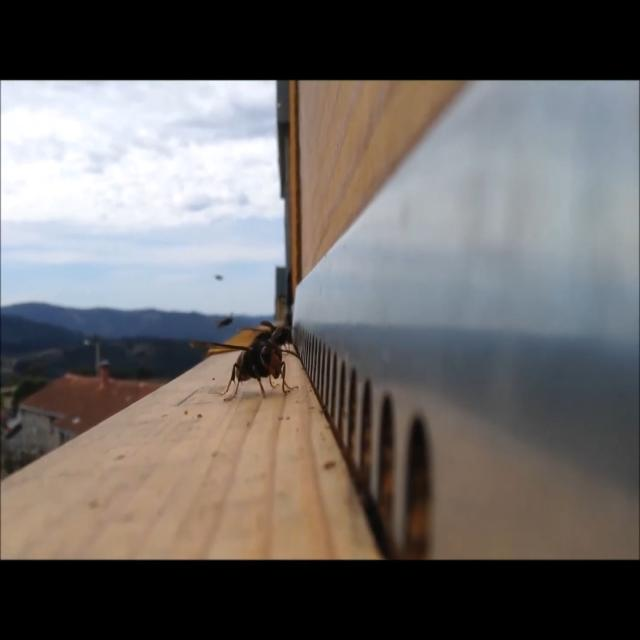Hornets: (190, 325, 304, 400)
